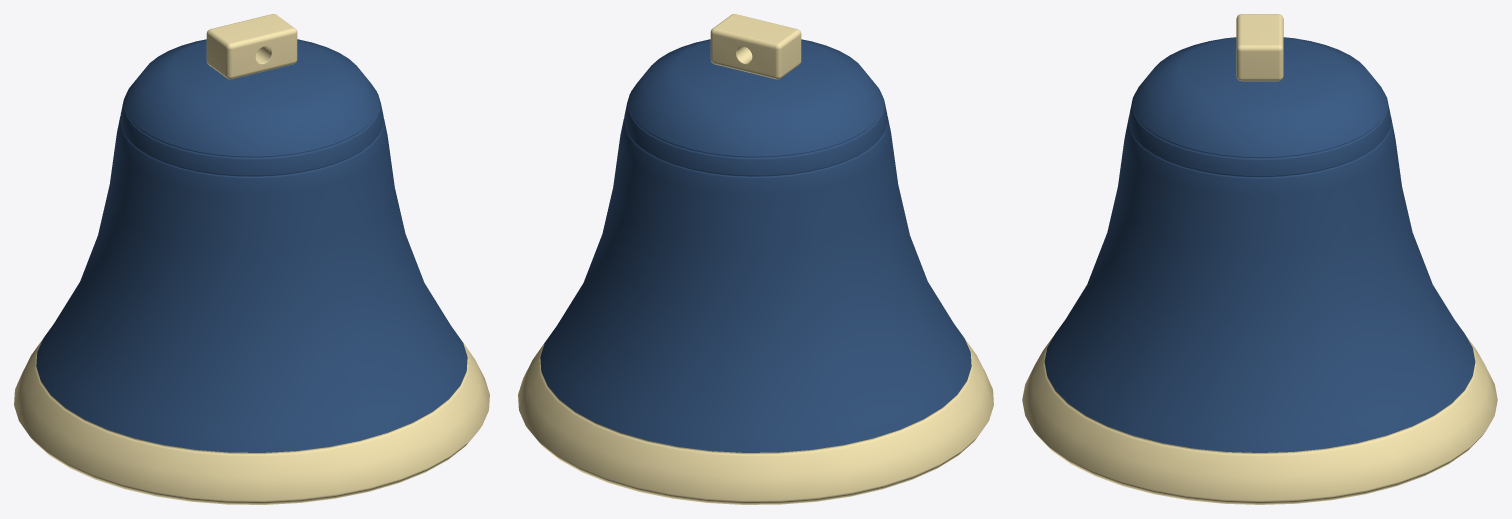
The picture shows the model from 3 angles, left to right: view 1: azimuth 30°, elevation 25°; view 2: azimuth 150°, elevation 25°; view 3: azimuth 270°, elevation 25°; orthographic projection.
Visible parts, largest first — view 1: BellShell, Headstock; view 2: BellShell, Headstock; view 3: BellShell, Headstock.
Part boxes in pixels (x1,y1,x2,y2): BellShell: [14, 39, 489, 504]; Headstock: [206, 14, 297, 79]; BellShell: [518, 39, 993, 504]; Headstock: [710, 14, 801, 79]; BellShell: [1022, 37, 1497, 504]; Headstock: [1236, 14, 1283, 81].
Size of the model in its own units: 0.096 by 0.0921 by 0.096.
